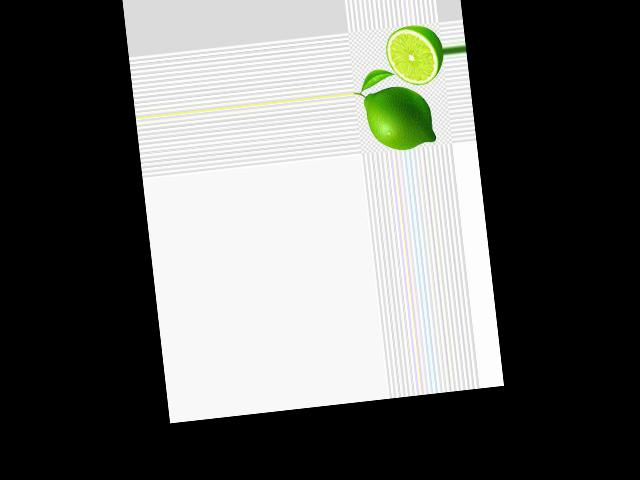lemon: (359, 79, 441, 154)
